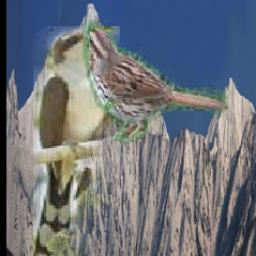Cuckoo: (32, 27, 119, 256)
Sparrow: (82, 20, 228, 142)
